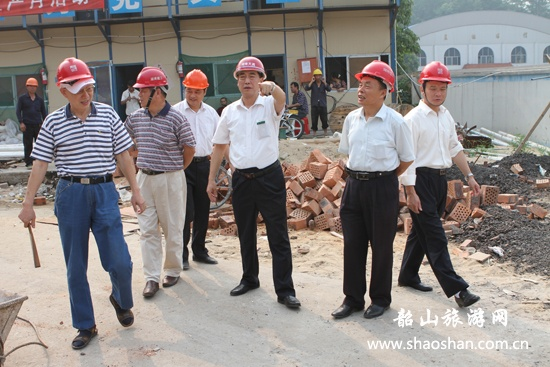none: (125, 78, 136, 92), (330, 70, 340, 82), (289, 80, 298, 93), (219, 95, 228, 106)
red: (355, 57, 397, 107), (54, 55, 95, 106), (417, 58, 451, 106), (231, 56, 268, 98), (134, 65, 170, 107)
yellow: (182, 68, 210, 104), (23, 75, 38, 94), (311, 66, 323, 82)
